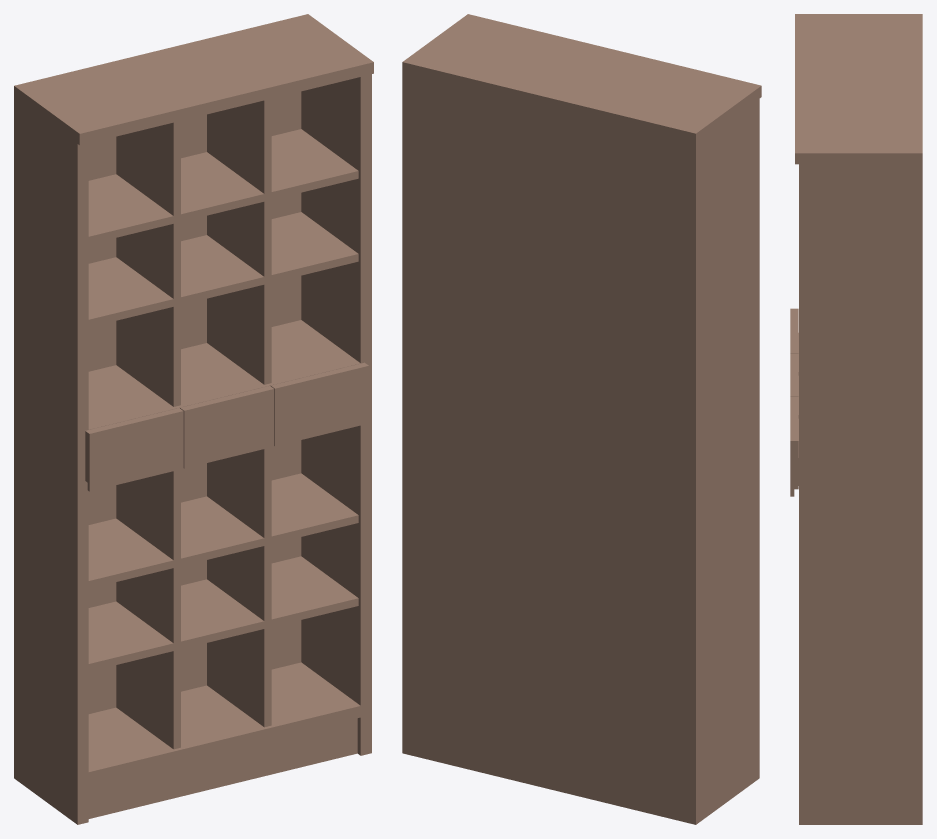
3 renders of one model, left to right at view 1: azimuth 30°, elevation 25°; view 2: azimuth 150°, elevation 25°; view 3: azimuth 270°, elevation 25°, orthographic. The views are drawn at different scales.
Parts seen in each view (by area): view 1: Body, drawer_left, drawer_right, drawer_center; view 2: Body; view 3: Body, drawer_right, drawer_left, drawer_center.
Boxes of the visible parts, x1,y1,x2,y2 form: Body: (14,14,373,824); drawer_left: (85,408,183,491); drawer_right: (271,362,368,446); drawer_center: (180,386,274,468); Body: (402,14,761,824); Body: (795,14,922,824); drawer_right: (790,396,798,496); drawer_left: (790,308,798,375); drawer_center: (790,353,798,418).
Bounding box in the file's own units: 0.8 × 1.8 × 0.321.
